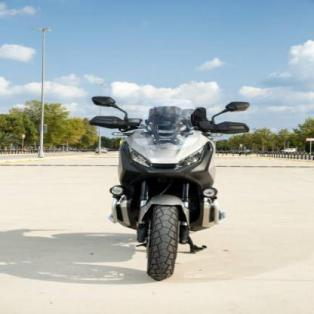Motocicleta: (80, 88, 251, 282)
